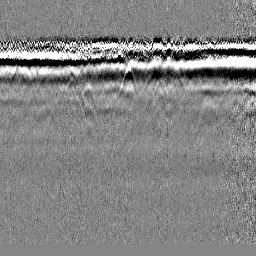cavity: (118, 63, 137, 94)
